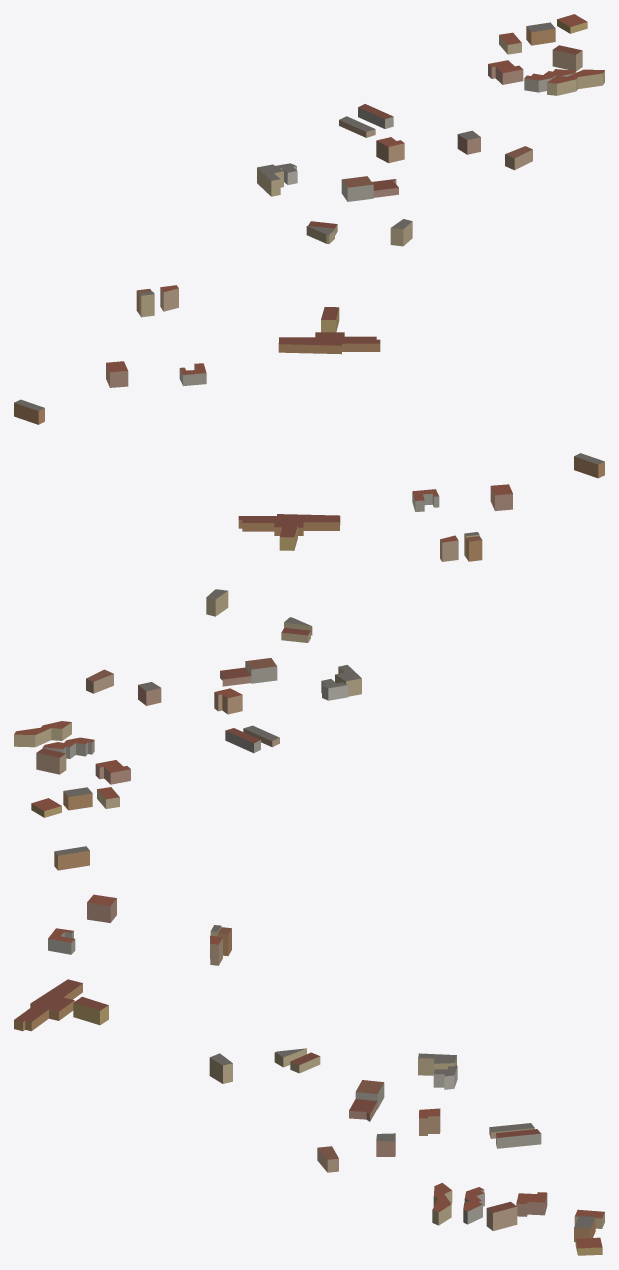
File: SM_Fondale_Citta_N_02_LOD1.fbx
3 renders of one model, top to bottom at view 1: azimuth 30°, elevation 25°; view 2: azimuth 210°, elevation 25°; view 3: azimuth 270°, elevation 25°, orthographic. The views are drawn at different scales.
Parts seen in each view (by area): view 1: SM_Fondale_Citta_N_02_LOD1; view 2: SM_Fondale_Citta_N_02_LOD1; view 3: SM_Fondale_Citta_N_02_LOD1.
Boxes of the visible parts, box(x1,y1,x2,y2) form: SM_Fondale_Citta_N_02_LOD1: box(14, 14, 604, 424); SM_Fondale_Citta_N_02_LOD1: box(14, 453, 604, 817); SM_Fondale_Citta_N_02_LOD1: box(14, 846, 604, 1255).
Size of the model in its own units: 85949 by 50704 by 4547.
